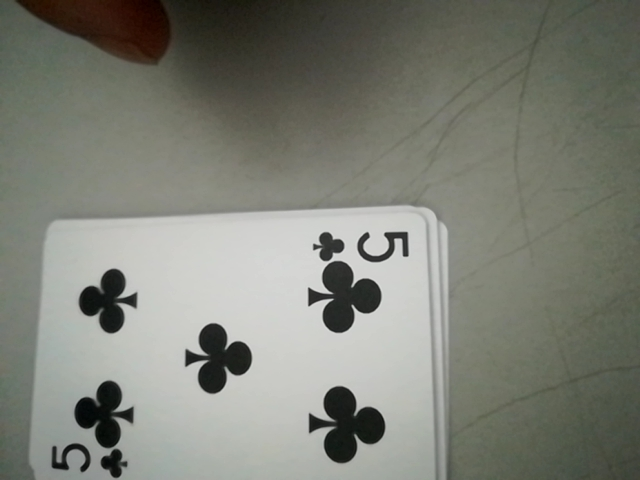mh 5: (310, 222, 416, 266), (44, 438, 133, 480)
